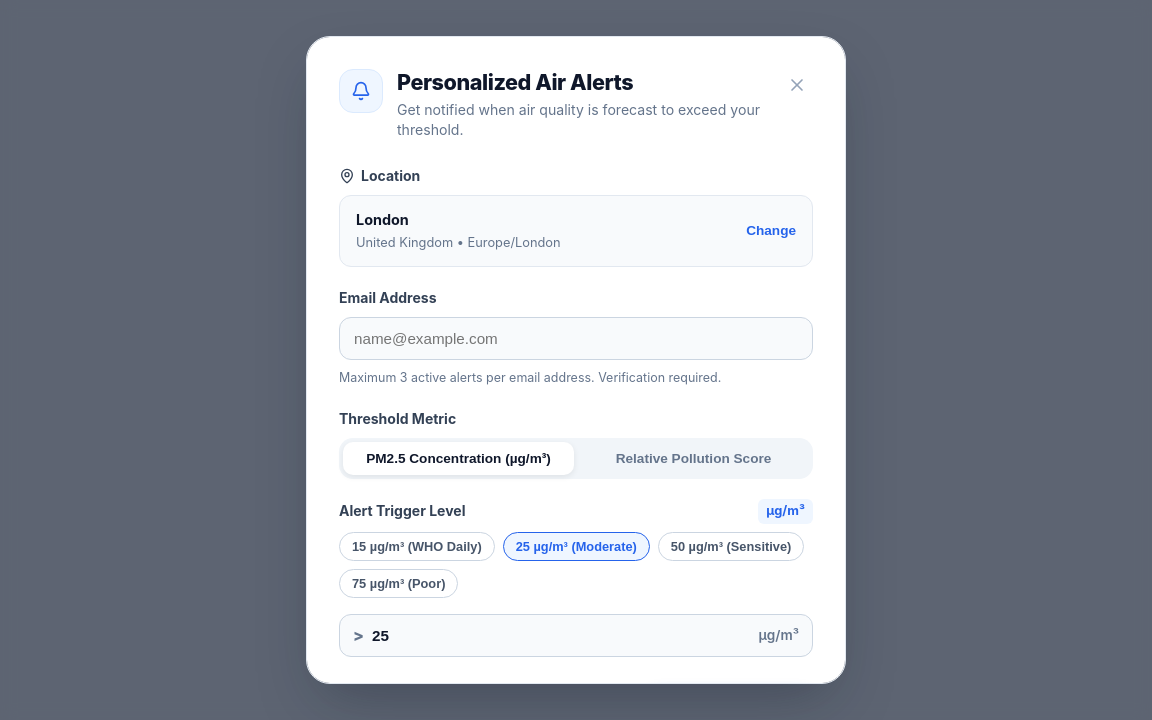
AirAlertsModal Component › shows transparency disclaimer when Relative Score metric is chosen
The width and height of the screenshot is (1152, 720).
Click the button "Relative Pollution Score".
click(694, 459)  # box [578,442,809,476]
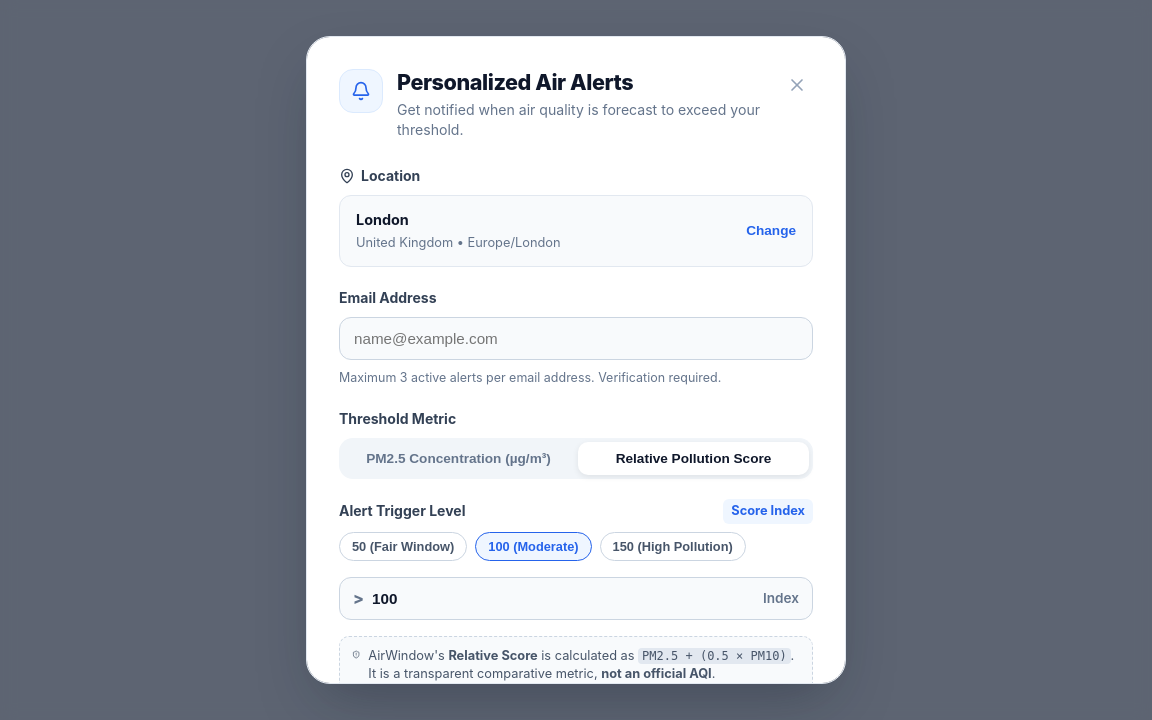
expect the text "not an official AQI" is shown: met, box [601,666,712,681]
expect the text "PM2.5 + (0.5 × PM10)" is shown: met, box [638,648,791,664]
